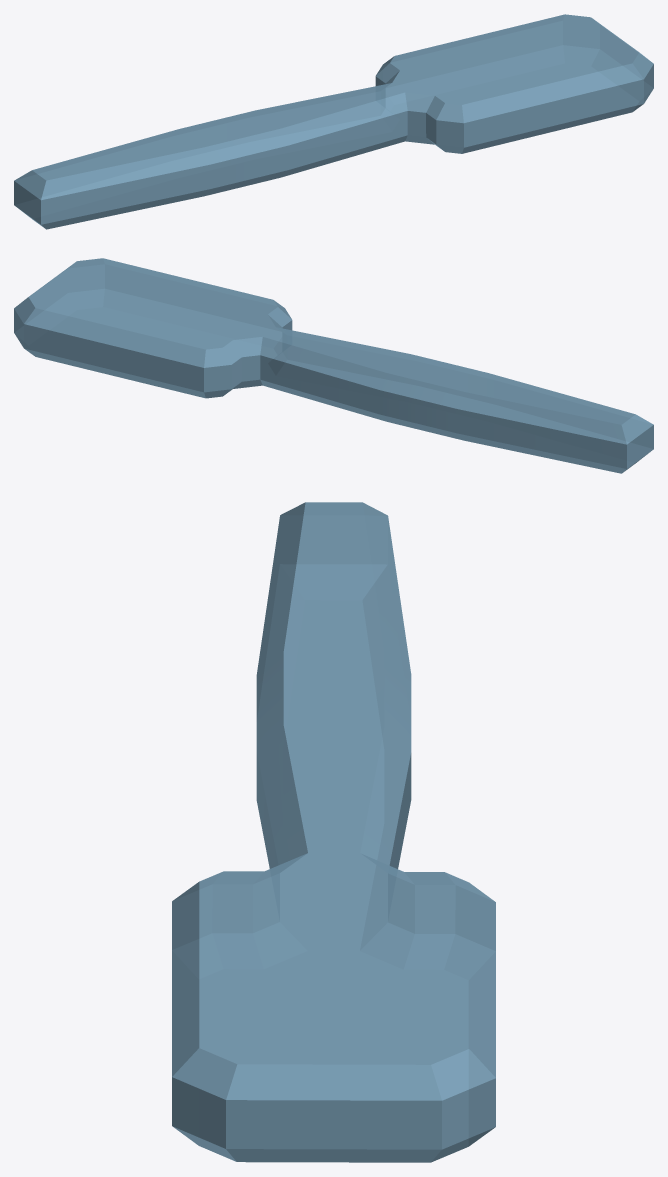
The model's file is toothbrushhandle.fbx.
3 views of the same model, one above another, from view 1: azimuth 30°, elevation 25°; view 2: azimuth 150°, elevation 25°; view 3: azimuth 270°, elevation 25° (orthographic). The views are drawn at different scales.
Parts seen in each view (by area): view 1: toothbrush:polySurface1; view 2: toothbrush:polySurface1; view 3: toothbrush:polySurface1.
Part boxes in pixels (box(x1,y1,x2,y2)): toothbrush:polySurface1: box(14, 14, 653, 229); toothbrush:polySurface1: box(14, 258, 653, 473); toothbrush:polySurface1: box(172, 502, 495, 1162).
Size of the model in its own units: 7.02 by 0.5526 by 1.64.
